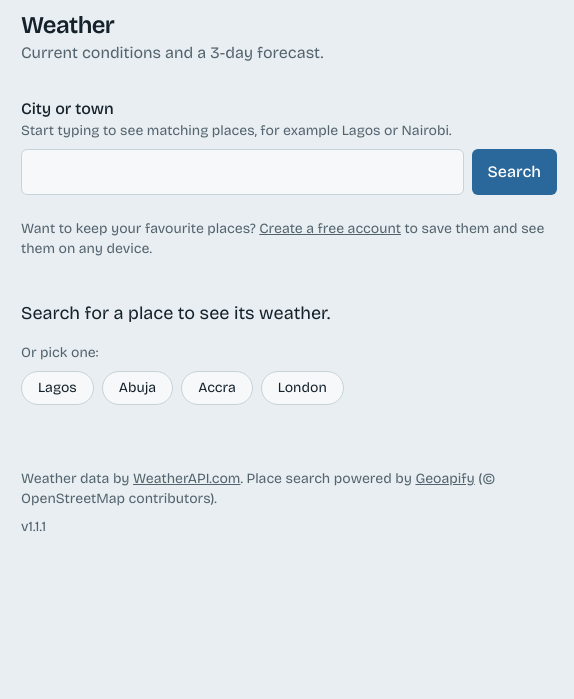
Scenario: Home page request handling › ignores a cancelled weather request whose body fails afterwards
The width and height of the screenshot is (574, 699).
Click the button "Lagos" at (57,388), box x1=21 y1=371 x2=94 y2=405
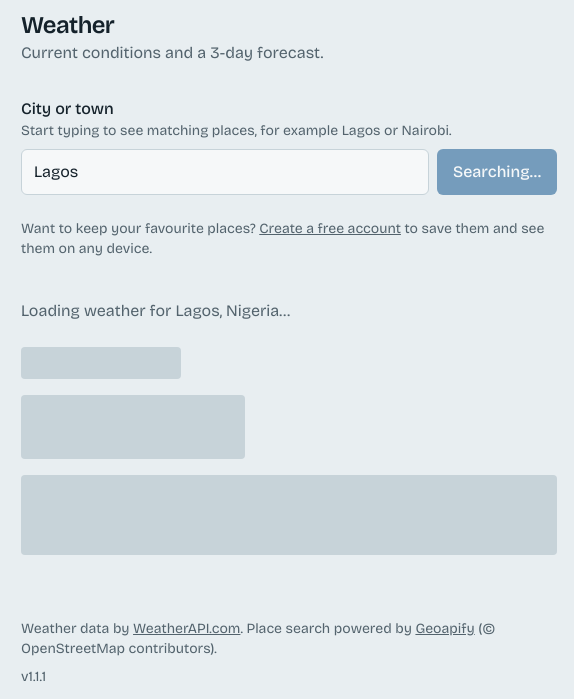
Expected: the text "Loading weather for Lagos, Nigeria…" is shown, x1=21 y1=301 x2=290 y2=320
Replace the text in the dropdown with "Abu" at (225,172), box x1=21 y1=149 x2=429 y2=195
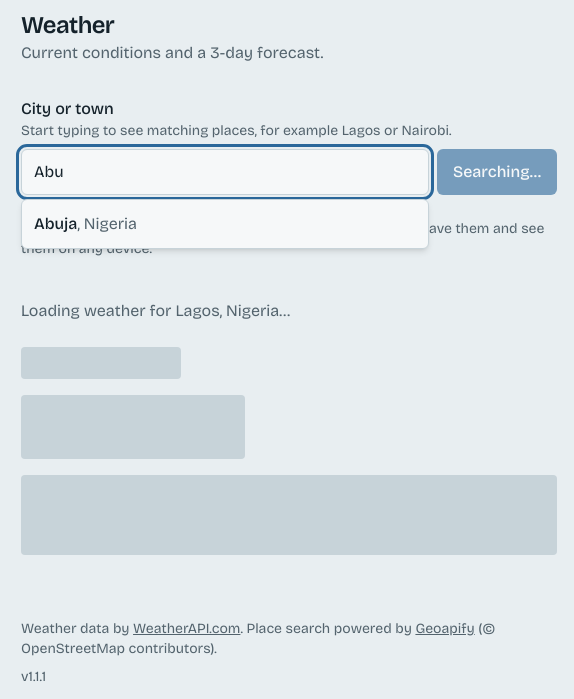
Click the option "Abuja, Nigeria" at (85,224), box x1=34 y1=214 x2=137 y2=233
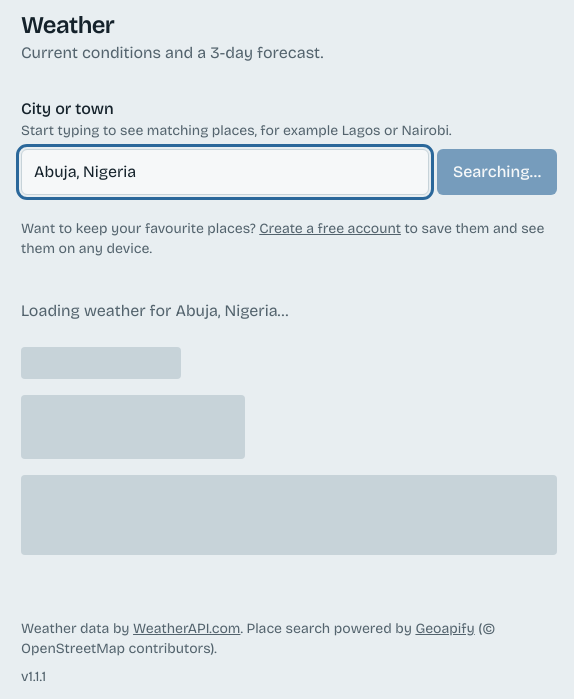
Expected: the text "Loading weather for Abuja, Nigeria…" is shown, x1=21 y1=301 x2=288 y2=320
